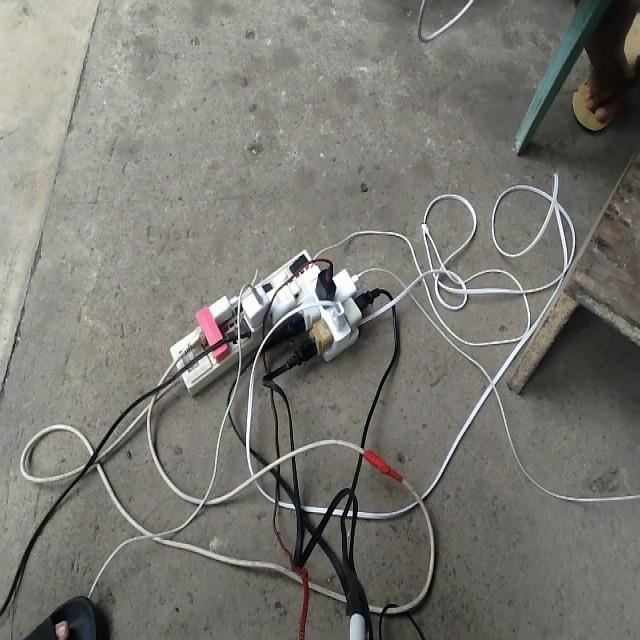-: (168, 248, 370, 395)
